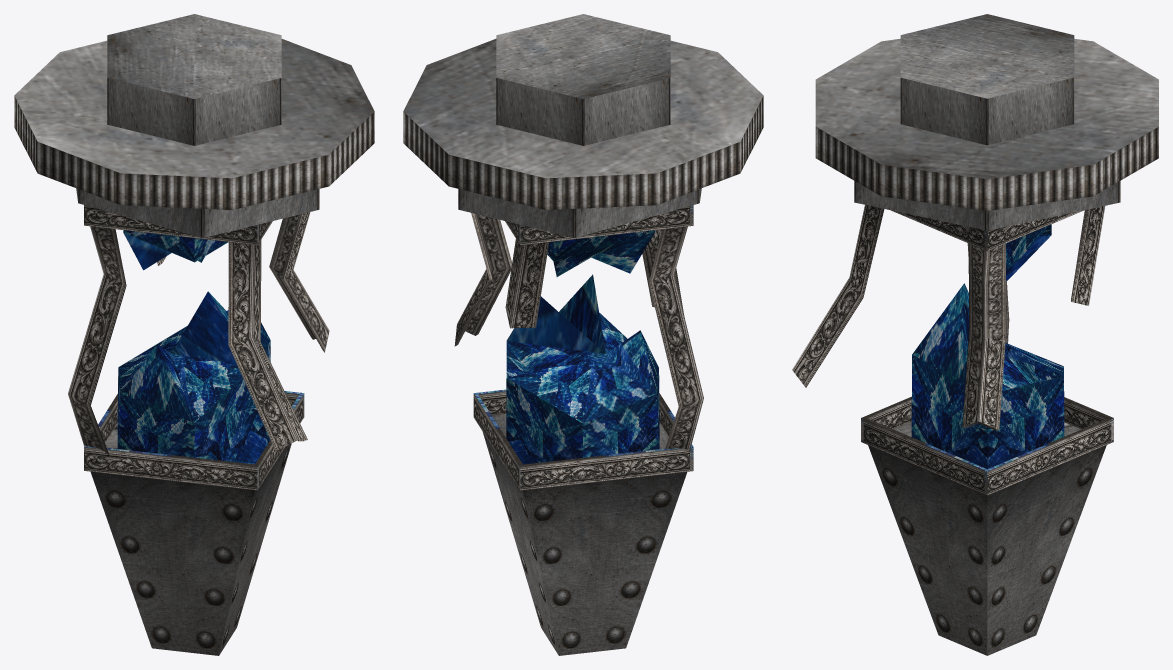
Rendered from mm9_deco_machinepartbroken.glb.
3 views of the same model, side by side, from view 1: azimuth 30°, elevation 25°; view 2: azimuth 150°, elevation 25°; view 3: azimuth 270°, elevation 25° (orthographic).
Parts seen in each view (by area): view 1: Machinepartbroken; view 2: Machinepartbroken; view 3: Machinepartbroken.
Boxes of the visible parts, box(x1,y1,x2,y2) form: Machinepartbroken: box(14, 14, 374, 655); Machinepartbroken: box(403, 14, 763, 655); Machinepartbroken: box(792, 14, 1158, 655).
Bounding box in the file's own units: 0.5663 × 1 × 0.5759.
Materials: 2 (2 with a texture image).
